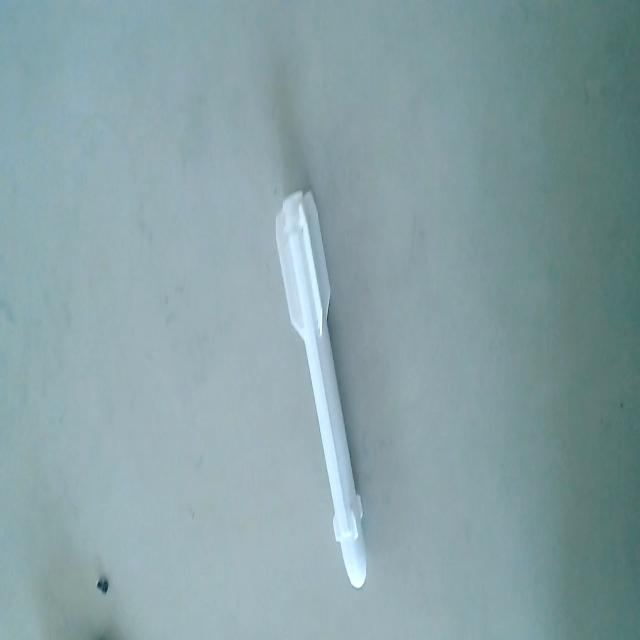Rocket: (274, 184, 370, 596)
